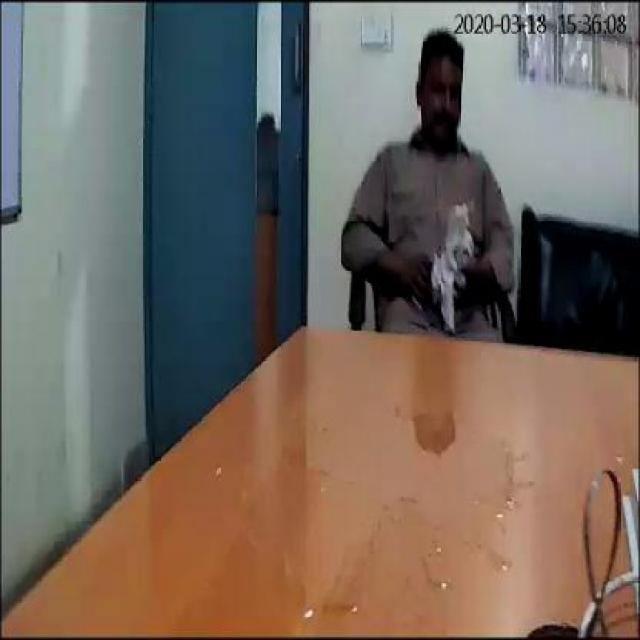spill: (228, 392, 524, 626)
